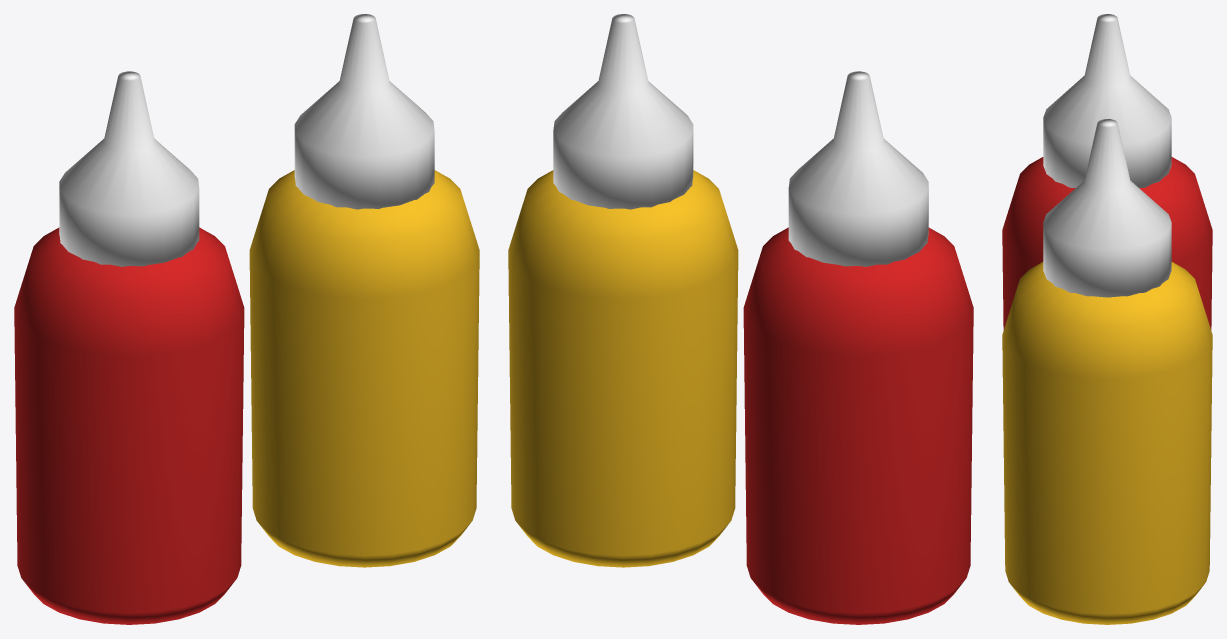
Rendered from PrimeCutSauces.obj.
3 views of the same model, side by side, from view 1: azimuth 30°, elevation 25°; view 2: azimuth 150°, elevation 25°; view 3: azimuth 270°, elevation 25° (orthographic). The views are drawn at different scales.
Parts seen in each view (by area): view 1: Mustard, Ketchup, Caps; view 2: Mustard, Ketchup, Caps; view 3: Mustard, Caps, Ketchup.
Boxes of the visible parts, x1=… form: Mustard: x1=249, y1=170, x2=479, y2=567; Ketchup: x1=14, y1=227, x2=244, y2=624; Caps: x1=59, y1=14, x2=434, y2=266; Mustard: x1=508, y1=170, x2=738, y2=567; Ketchup: x1=743, y1=227, x2=973, y2=624; Caps: x1=553, y1=14, x2=928, y2=266; Mustard: x1=1002, y1=262, x2=1212, y2=624; Caps: x1=1043, y1=14, x2=1171, y2=297; Ketchup: x1=1002, y1=157, x2=1212, y2=329.
Bounding box in the file's own units: 3.14 × 3.5 × 1.44.
